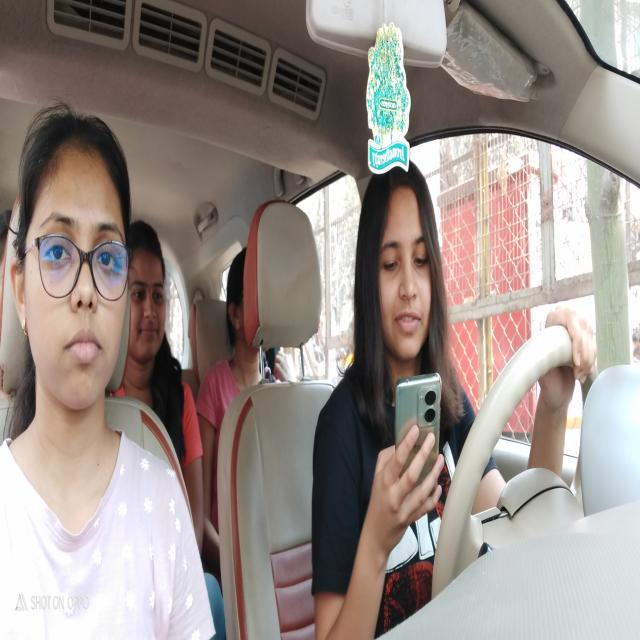mobile: (392, 373, 447, 528)
person: (12, 97, 132, 427), (356, 154, 450, 373), (127, 218, 170, 376), (225, 245, 251, 374)
